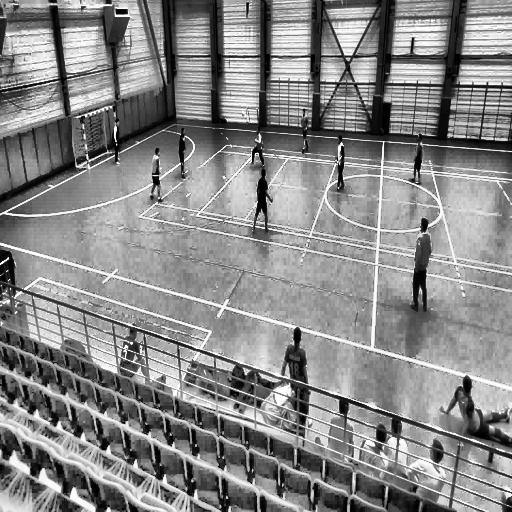ball: (240, 108, 246, 117)
player: (408, 217, 431, 313), (252, 168, 274, 233), (409, 132, 424, 186), (150, 148, 163, 202), (334, 133, 345, 193), (252, 126, 266, 167), (178, 126, 188, 178), (112, 116, 122, 168), (300, 108, 309, 154)
